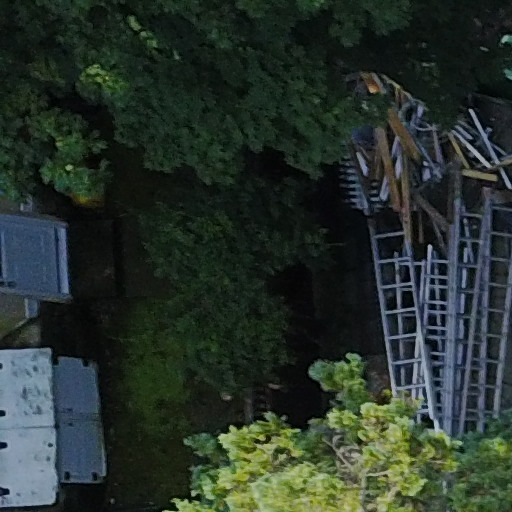clutter: (330, 57, 512, 456)
ladder: (359, 187, 445, 441), (475, 177, 512, 438)
